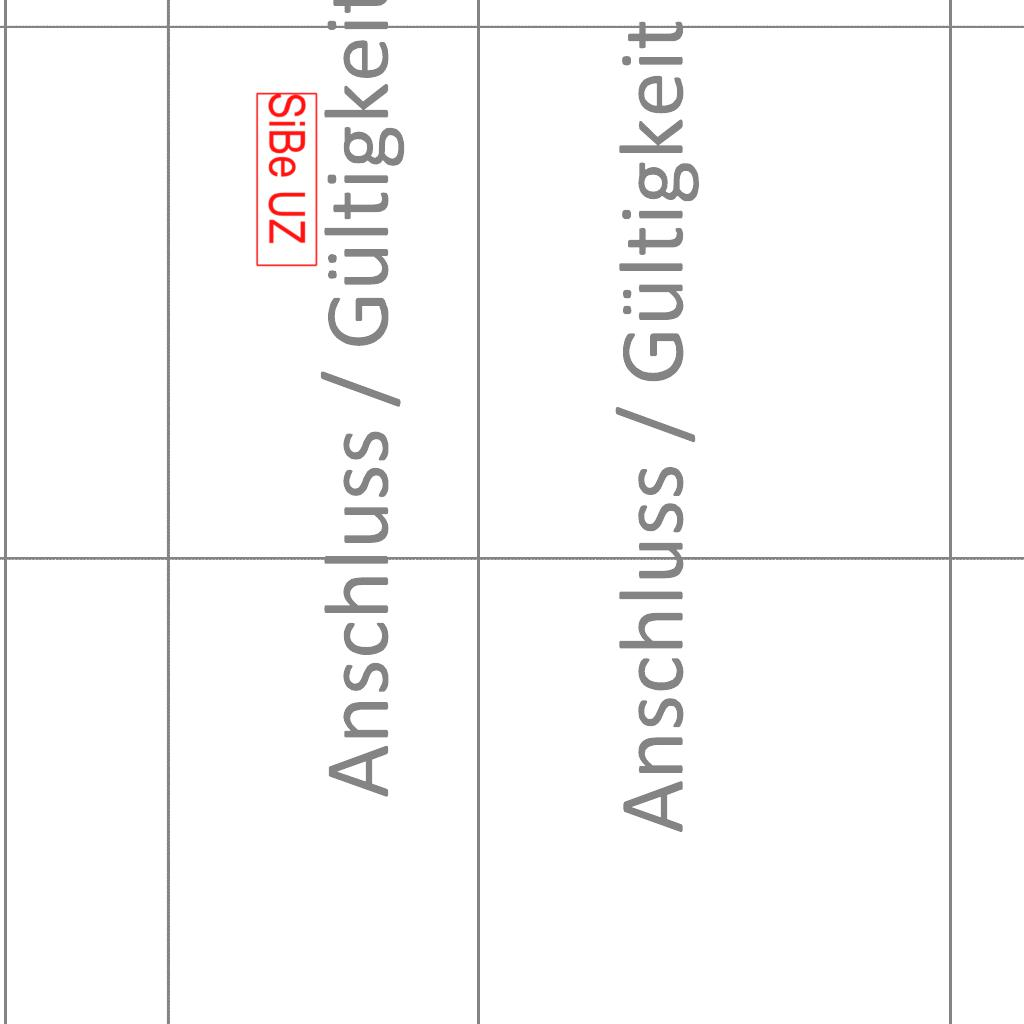Zentrale_Sicherheitsbeleuchtung: (254, 91, 319, 269)
